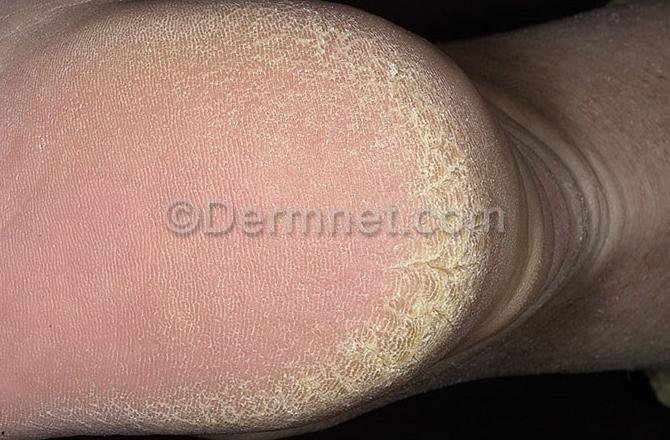xerosis 2: (0, 0, 500, 440)
